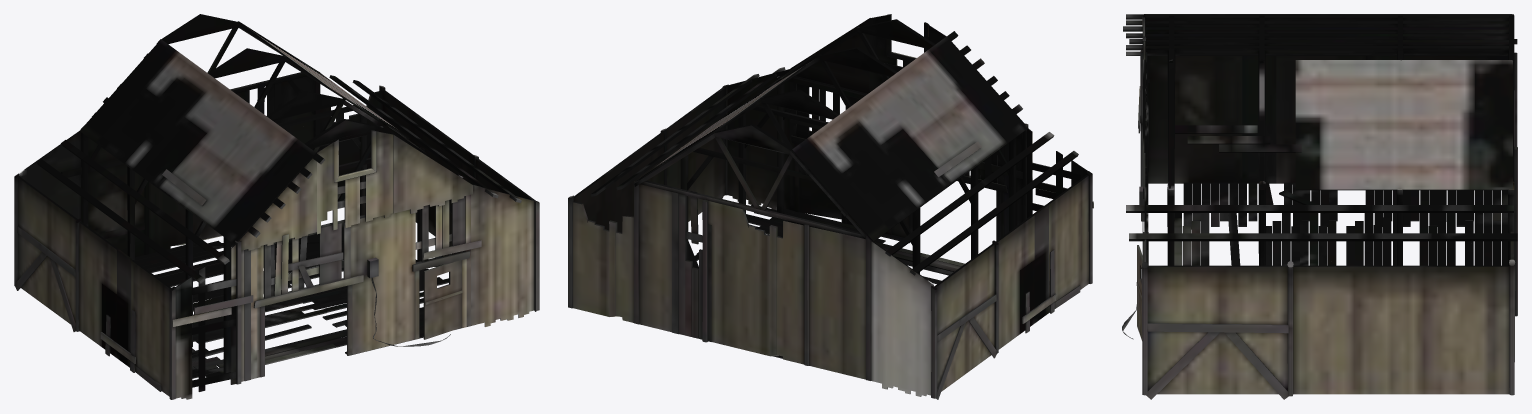
File: old-barn.walls-v1.lod1.glb
3 renders of one model, left to right at view 1: azimuth 30°, elevation 25°; view 2: azimuth 150°, elevation 25°; view 3: azimuth 270°, elevation 25°, orthographic. The views are drawn at different scales.
Visible parts, largest first — view 1: Object002_Object002_mtl_0; view 2: Object002_Object002_mtl_0; view 3: Object002_Object002_mtl_0.
Part boxes in pixels (<box>): Object002_Object002_mtl_0: <box>14,14,539,399</box>; Object002_Object002_mtl_0: <box>568,14,1093,399</box>; Object002_Object002_mtl_0: <box>1122,14,1517,399</box>.
Size of the model in its own units: 14.67 by 8.76 by 11.44.
1 material, 1 textured.
